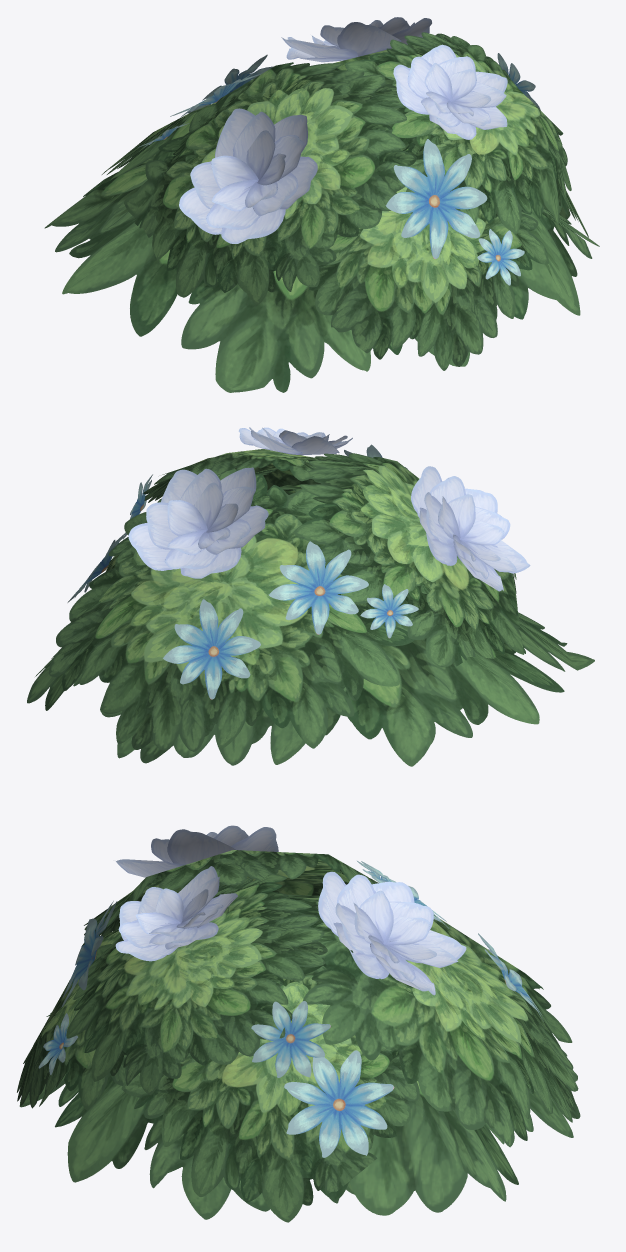
The model's file is F_Bush_02.fbx.
The picture shows the model from 3 angles, top to bottom: view 1: azimuth 30°, elevation 25°; view 2: azimuth 150°, elevation 25°; view 3: azimuth 270°, elevation 25°; orthographic projection. The views are drawn at different scales.
Visible parts, largest first — view 1: F_Bush_02; view 2: F_Bush_02; view 3: F_Bush_02.
Part boxes in pixels (x1=…): F_Bush_02: x1=44, y1=17, x2=599, y2=392; F_Bush_02: x1=27, y1=427, x2=594, y2=766; F_Bush_02: x1=17, y1=825, x2=580, y2=1222.
Bounding box in the file's own units: 389 × 180 × 367.
